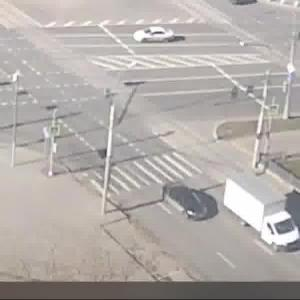car: (218, 183, 300, 252), (164, 181, 210, 227), (132, 24, 180, 47)
